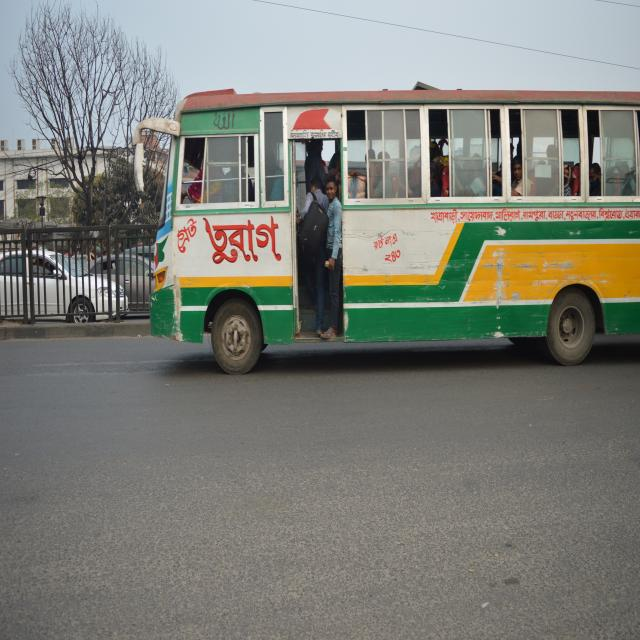bus: (130, 71, 640, 376)
car: (0, 250, 134, 334), (111, 242, 157, 315)
